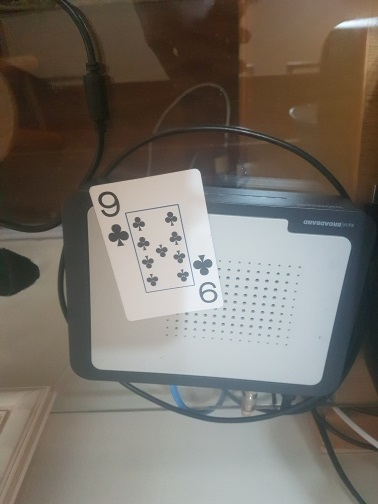nine: (89, 169, 222, 320)
